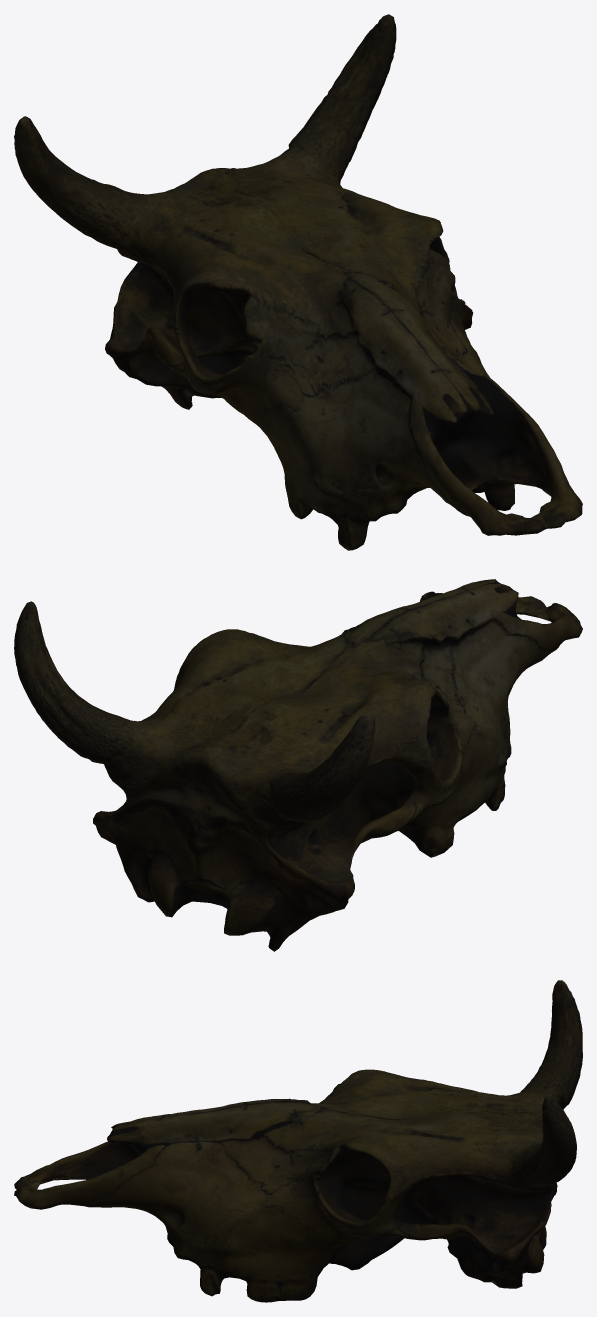
File: model_obj-kirgiz.glb
3 renders of one model, top to bottom at view 1: azimuth 30°, elevation 25°; view 2: azimuth 150°, elevation 25°; view 3: azimuth 270°, elevation 25°, orthographic. The views are drawn at different scales.
Parts seen in each view (by area): view 1: Node1; view 2: Node1; view 3: Node1.
Part boxes in pixels (left/top/right/bottom): Node1: left=14, top=14, right=582, bottom=550; Node1: left=14, top=579, right=582, bottom=951; Node1: left=14, top=980, right=582, bottom=1302.
Size of the model in its own units: 0.252 by 0.2077 by 0.4342.
1 material, 1 textured.
